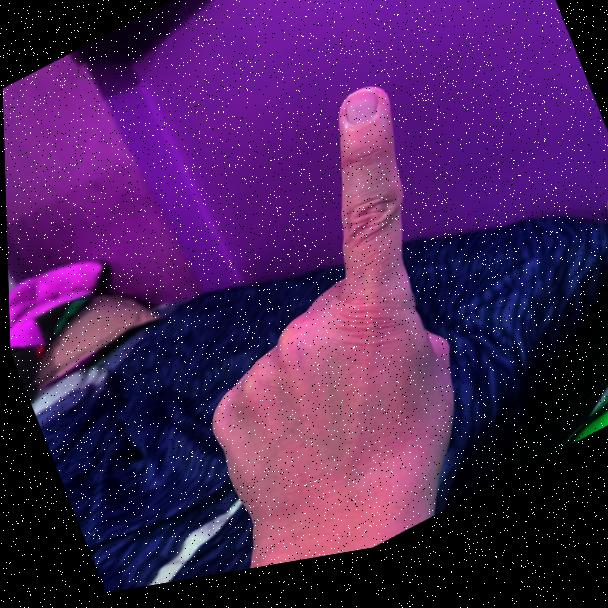one: (123, 70, 526, 592)
